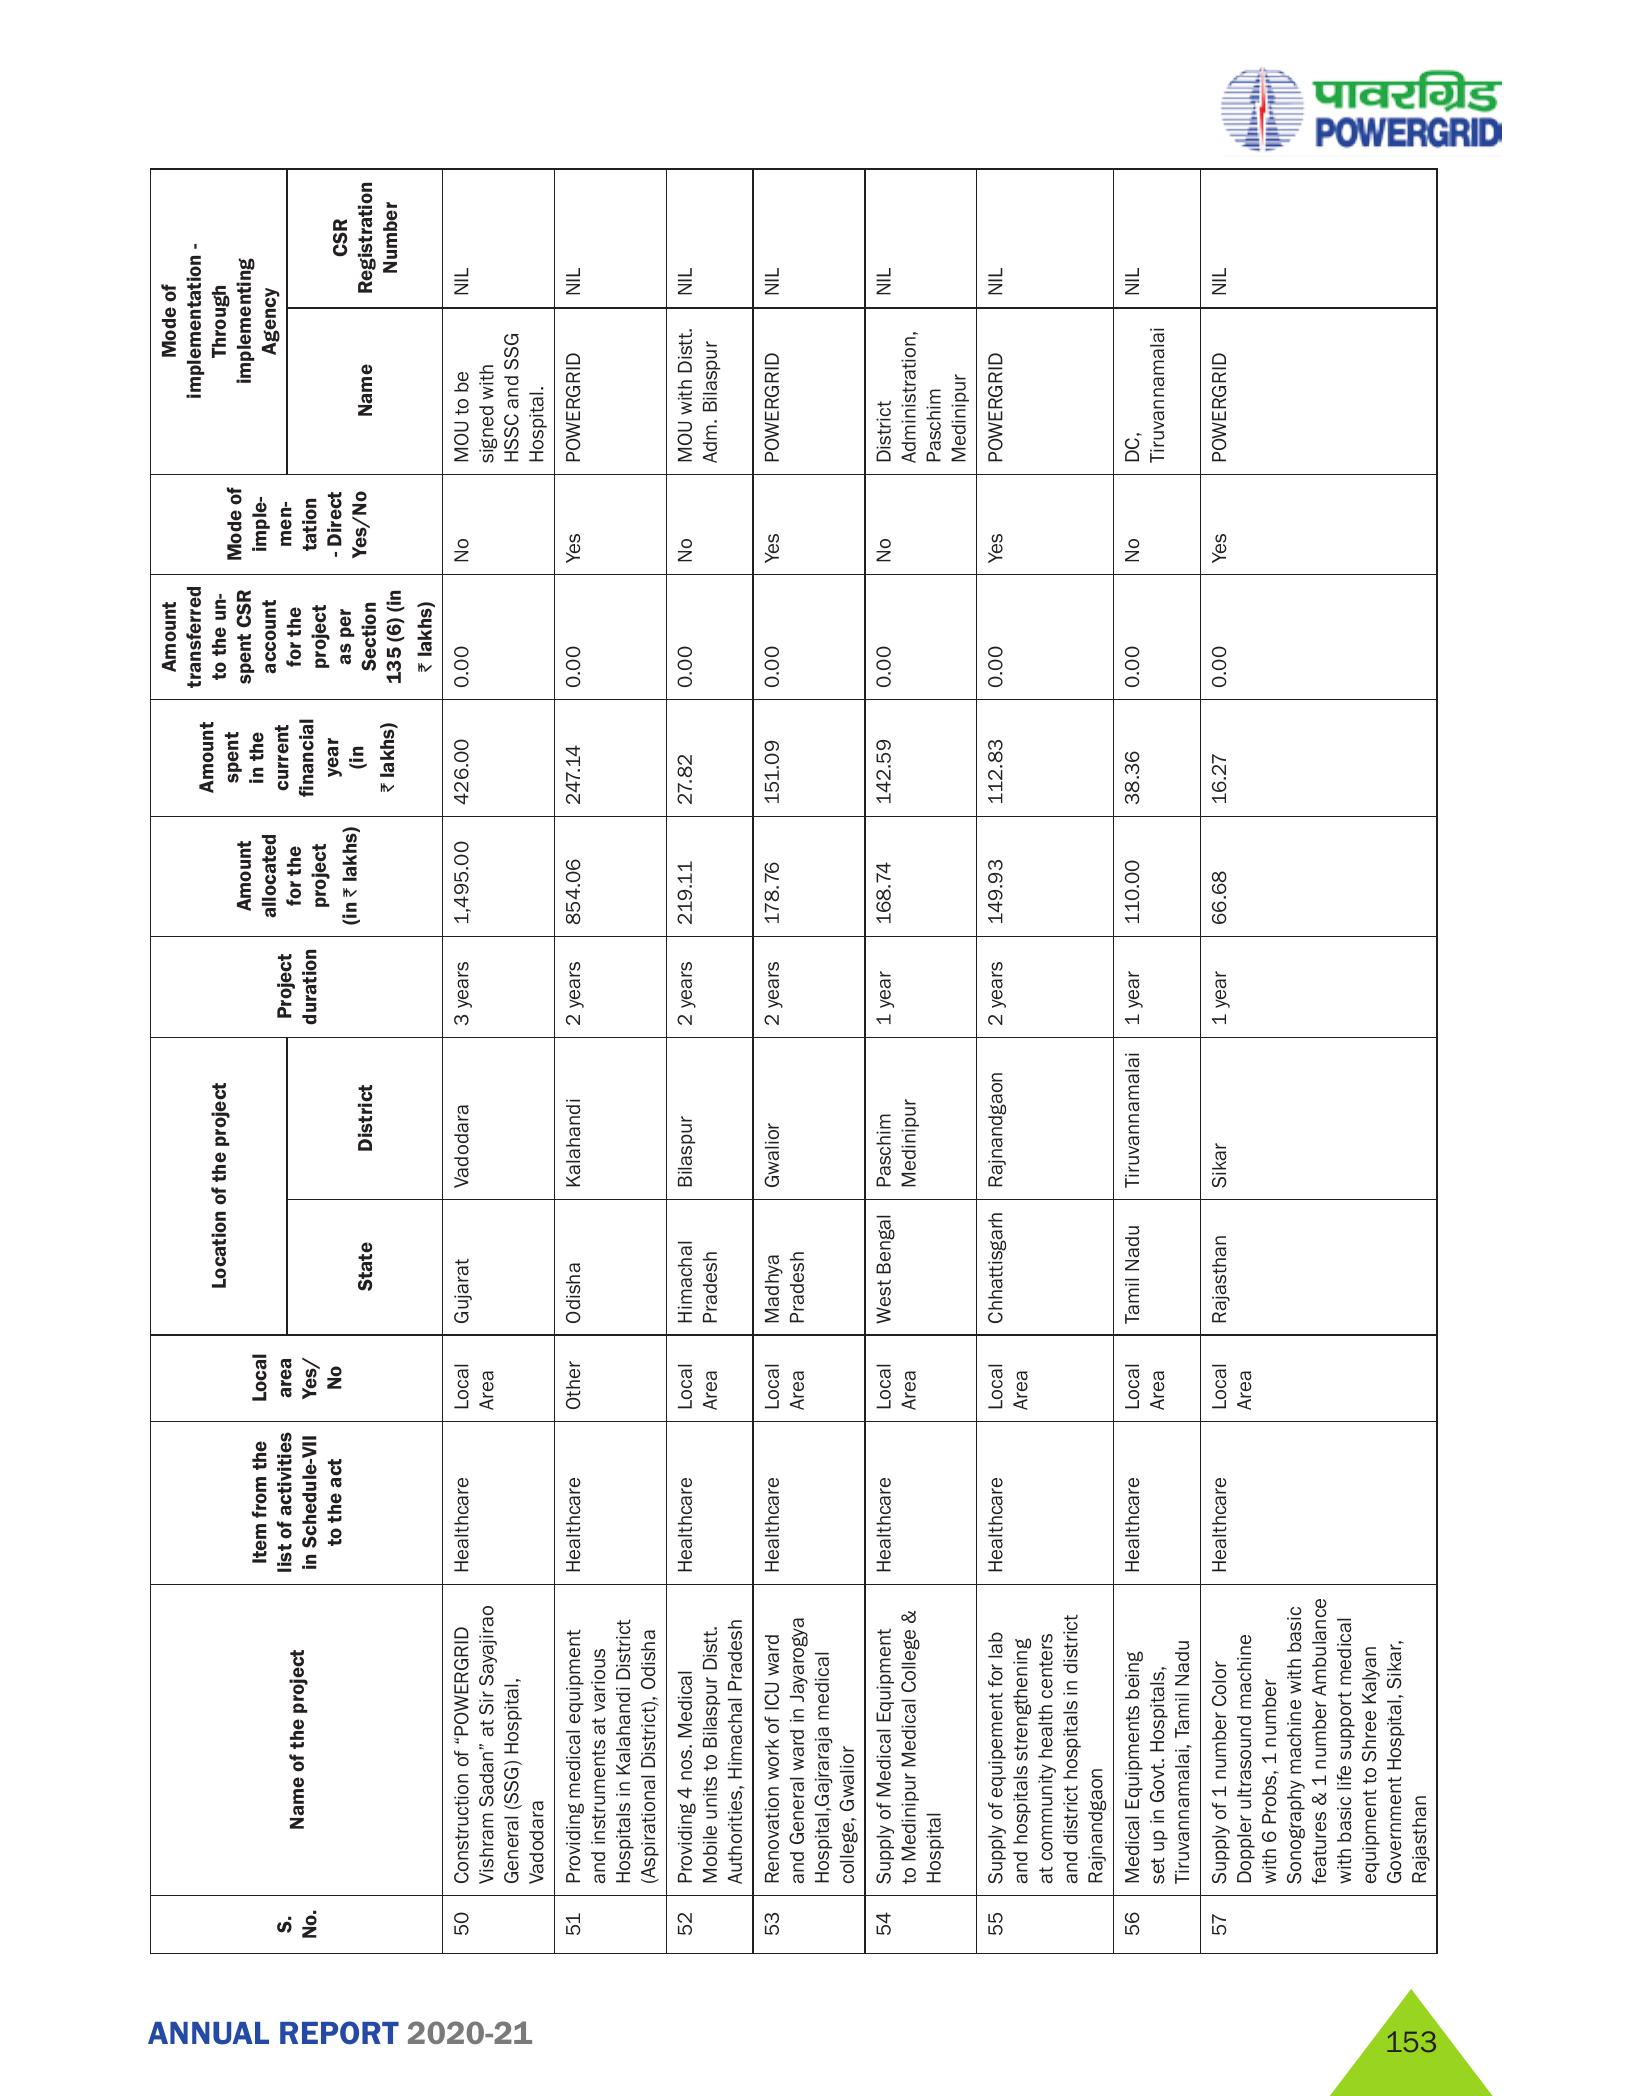Footer: (0, 1965, 1650, 2096)
Header: (0, 0, 1650, 158)
Table: (117, 168, 1466, 1985)
